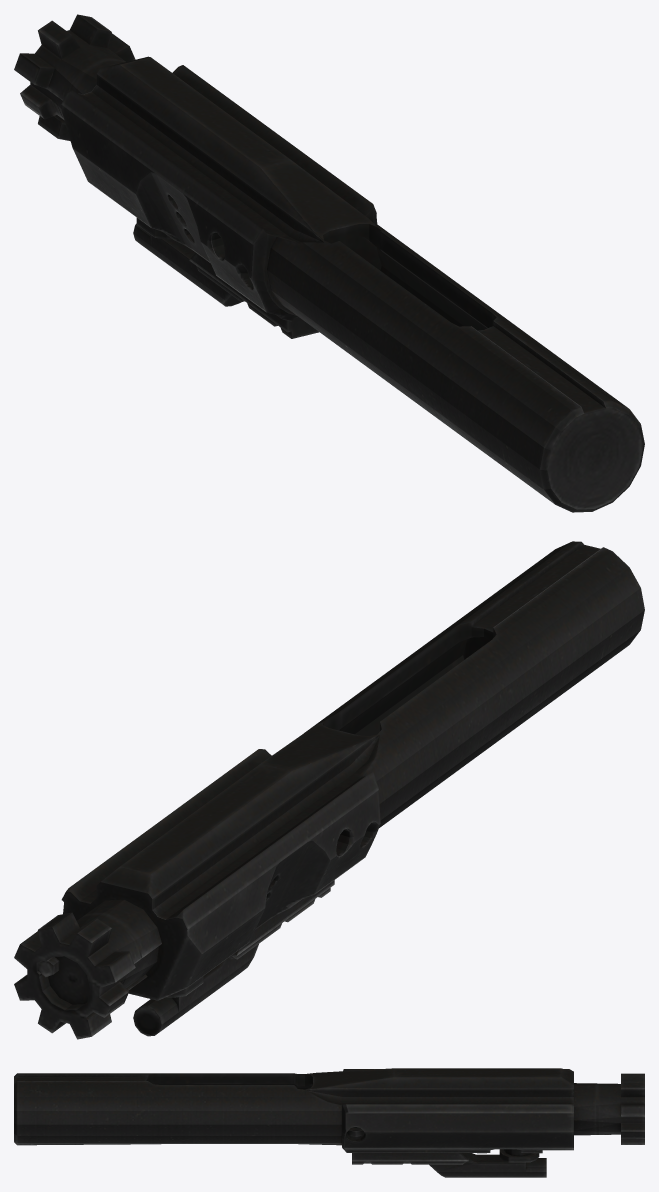
3 views of the same model, one above another, from view 1: azimuth 30°, elevation 25°; view 2: azimuth 150°, elevation 25°; view 3: azimuth 270°, elevation 25° (orthographic). The views are drawn at different scales.
Visible parts, largest first — view 1: TW_606587252535c57a13424cfd_PZ_Import; view 2: TW_606587252535c57a13424cfd_PZ_Import; view 3: TW_606587252535c57a13424cfd_PZ_Import.
Part boxes in pixels (x1,y1,x2,y2): TW_606587252535c57a13424cfd_PZ_Import: (14, 14, 644, 512); TW_606587252535c57a13424cfd_PZ_Import: (14, 541, 644, 1039); TW_606587252535c57a13424cfd_PZ_Import: (14, 1068, 644, 1177).
Size of the model in its own units: 0.0169 by 0.1212 by 0.022.
1 material, 1 textured.
